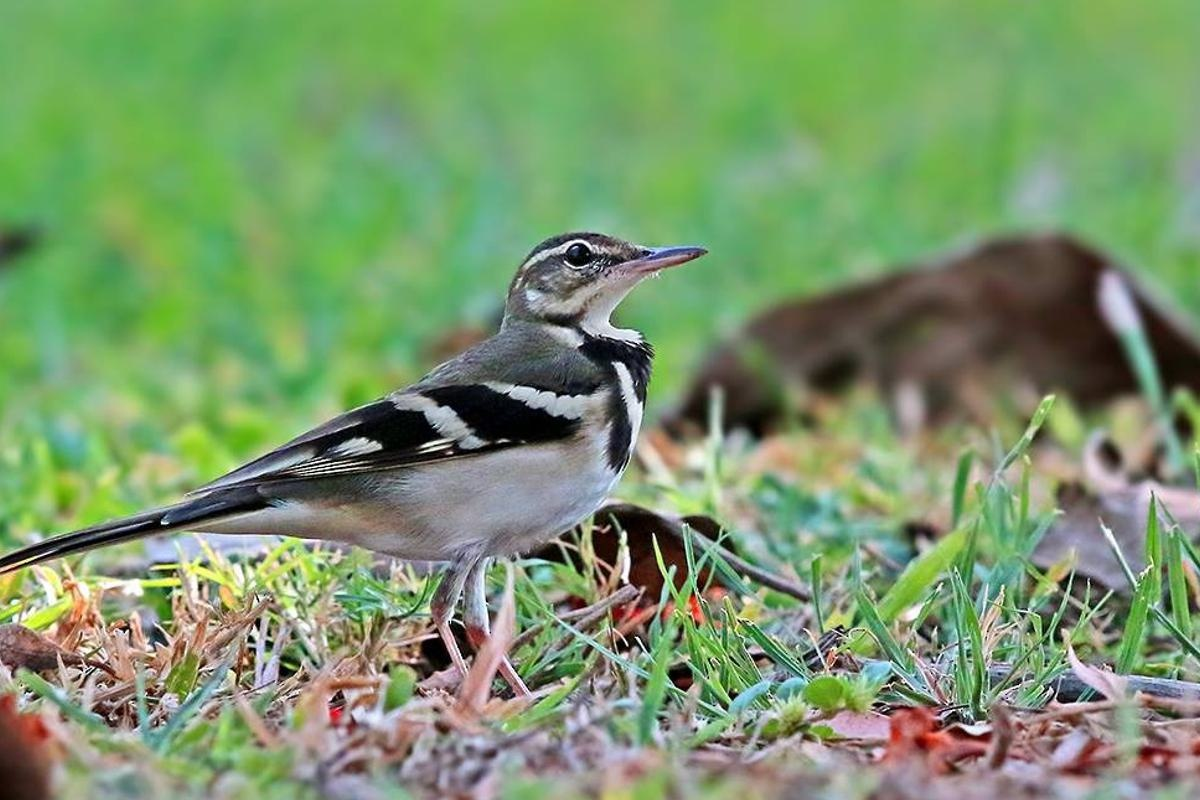wagtail: (26, 213, 730, 741)
